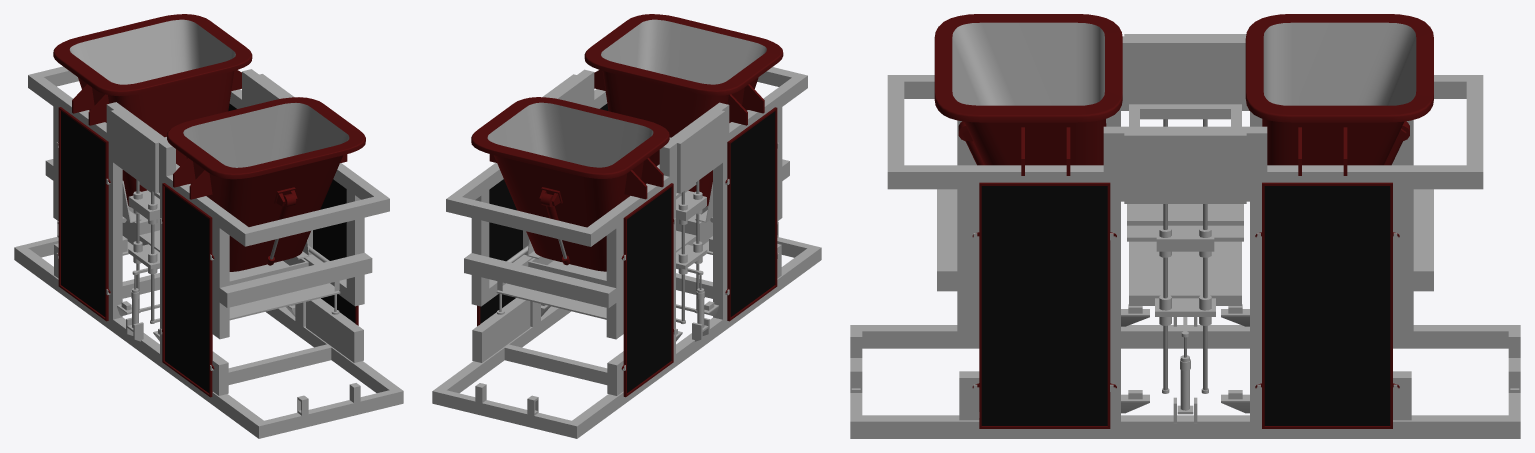
Rendered from SM_ProdLine_Press_A.FBX.
3 views of the same model, side by side, from view 1: azimuth 30°, elevation 25°; view 2: azimuth 150°, elevation 25°; view 3: azimuth 270°, elevation 25° (orthographic). The views are drawn at different scales.
Visible parts, largest first — view 1: SM_ProdLine_Press_A_LOD0; view 2: SM_ProdLine_Press_A_LOD0; view 3: SM_ProdLine_Press_A_LOD0.
Part boxes in pixels (x1,y1,x2,y2): SM_ProdLine_Press_A_LOD0: (14, 14, 403, 438); SM_ProdLine_Press_A_LOD0: (432, 14, 821, 438); SM_ProdLine_Press_A_LOD0: (850, 14, 1520, 438).
Size of the model in its own units: 184 by 495 by 266.
